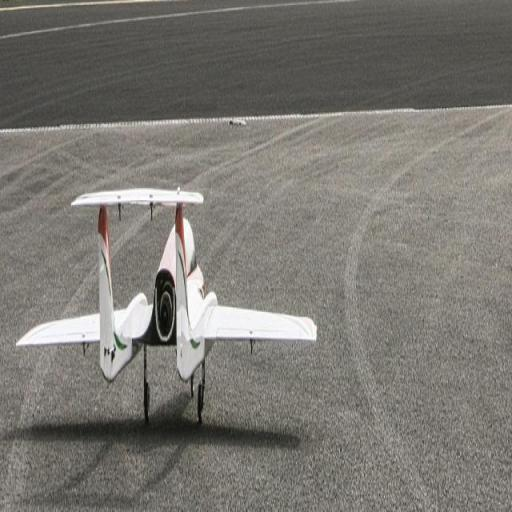uav: (16, 162, 318, 426)
